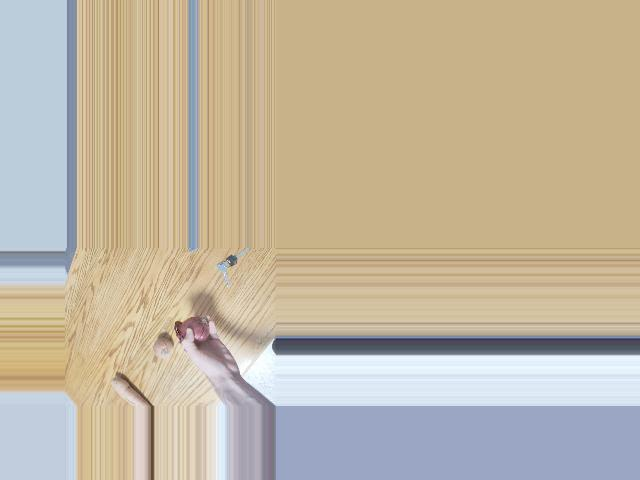onion: (151, 337, 181, 363)
